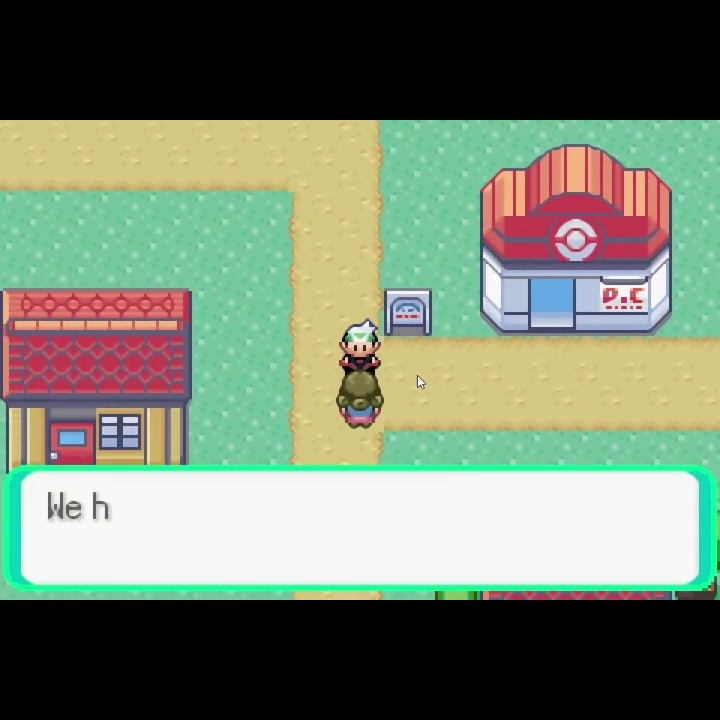house: (1, 286, 194, 466)
npc: (335, 369, 386, 430), (339, 318, 382, 369)
pokecen: (473, 141, 675, 339)
